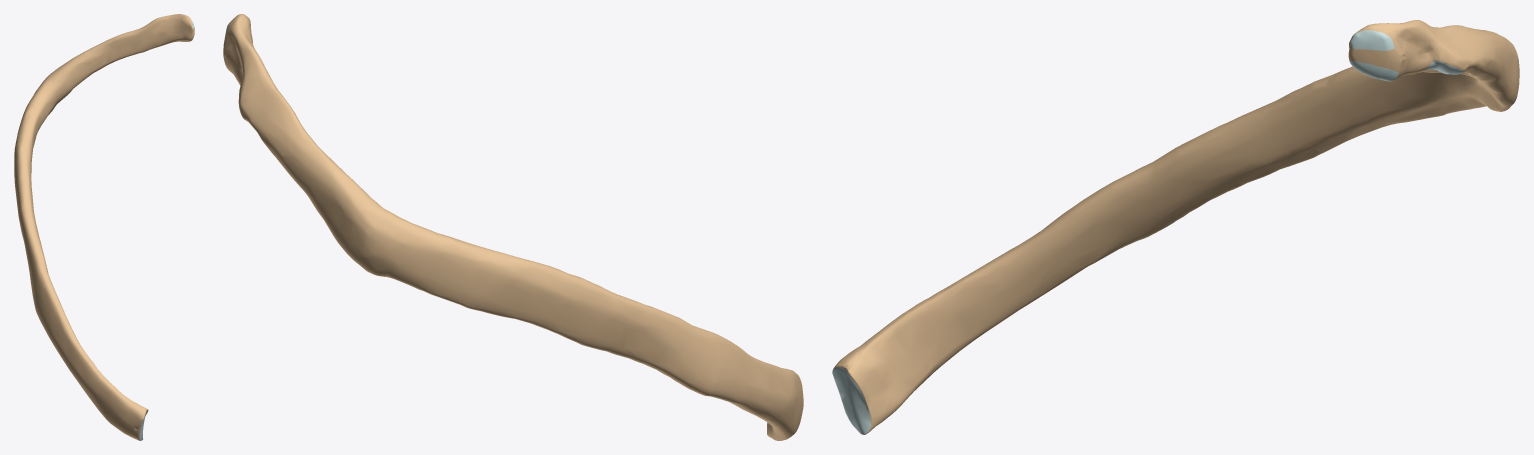
File: 8th_rib.r_Generated_Mesh_From_X3D.886.glb
3 views of the same model, side by side, from view 1: azimuth 30°, elevation 25°; view 2: azimuth 150°, elevation 25°; view 3: azimuth 270°, elevation 25° (orthographic). The views are drawn at different scales.
Parts seen in each view (by area): view 1: 8th_rib.r_Generated_Mesh_From_X3D.886; view 2: 8th_rib.r_Generated_Mesh_From_X3D.886; view 3: 8th_rib.r_Generated_Mesh_From_X3D.886.
Part boxes in pixels (bbox=[...]): 8th_rib.r_Generated_Mesh_From_X3D.886: bbox=[14, 14, 194, 440]; 8th_rib.r_Generated_Mesh_From_X3D.886: bbox=[223, 14, 803, 440]; 8th_rib.r_Generated_Mesh_From_X3D.886: bbox=[832, 20, 1519, 434].
Size of the model in its own units: 0.1179 by 0.1515 by 0.1634.
